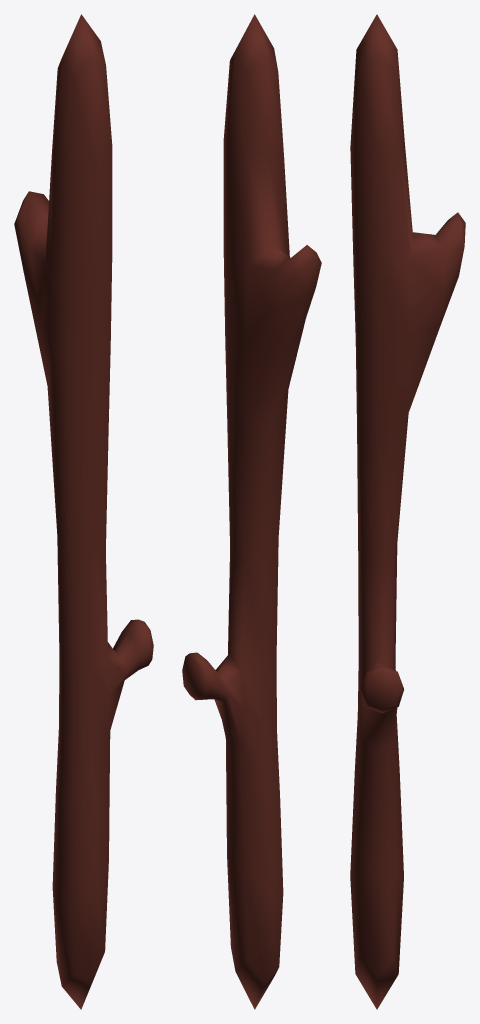
Rendered from stick-2.fbx.
3 renders of one model, left to right at view 1: azimuth 30°, elevation 25°; view 2: azimuth 210°, elevation 25°; view 3: azimuth 270°, elevation 25°, orthographic.
Visible parts, largest first — view 1: stick-2; view 2: stick-2; view 3: stick-2.
Boxes of the visible parts, x1,y1,x2,y2 form: stick-2: (14, 14, 153, 1009); stick-2: (182, 14, 321, 1009); stick-2: (350, 14, 465, 1009).
Size of the model in its own units: 66.89 by 622 by 65.32.
